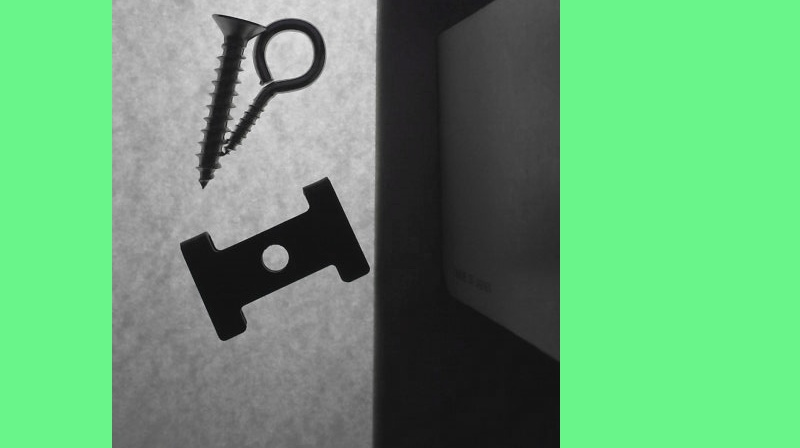O001: (223, 17, 325, 155)
O002: (178, 174, 370, 342)
S001: (195, 12, 264, 189)
